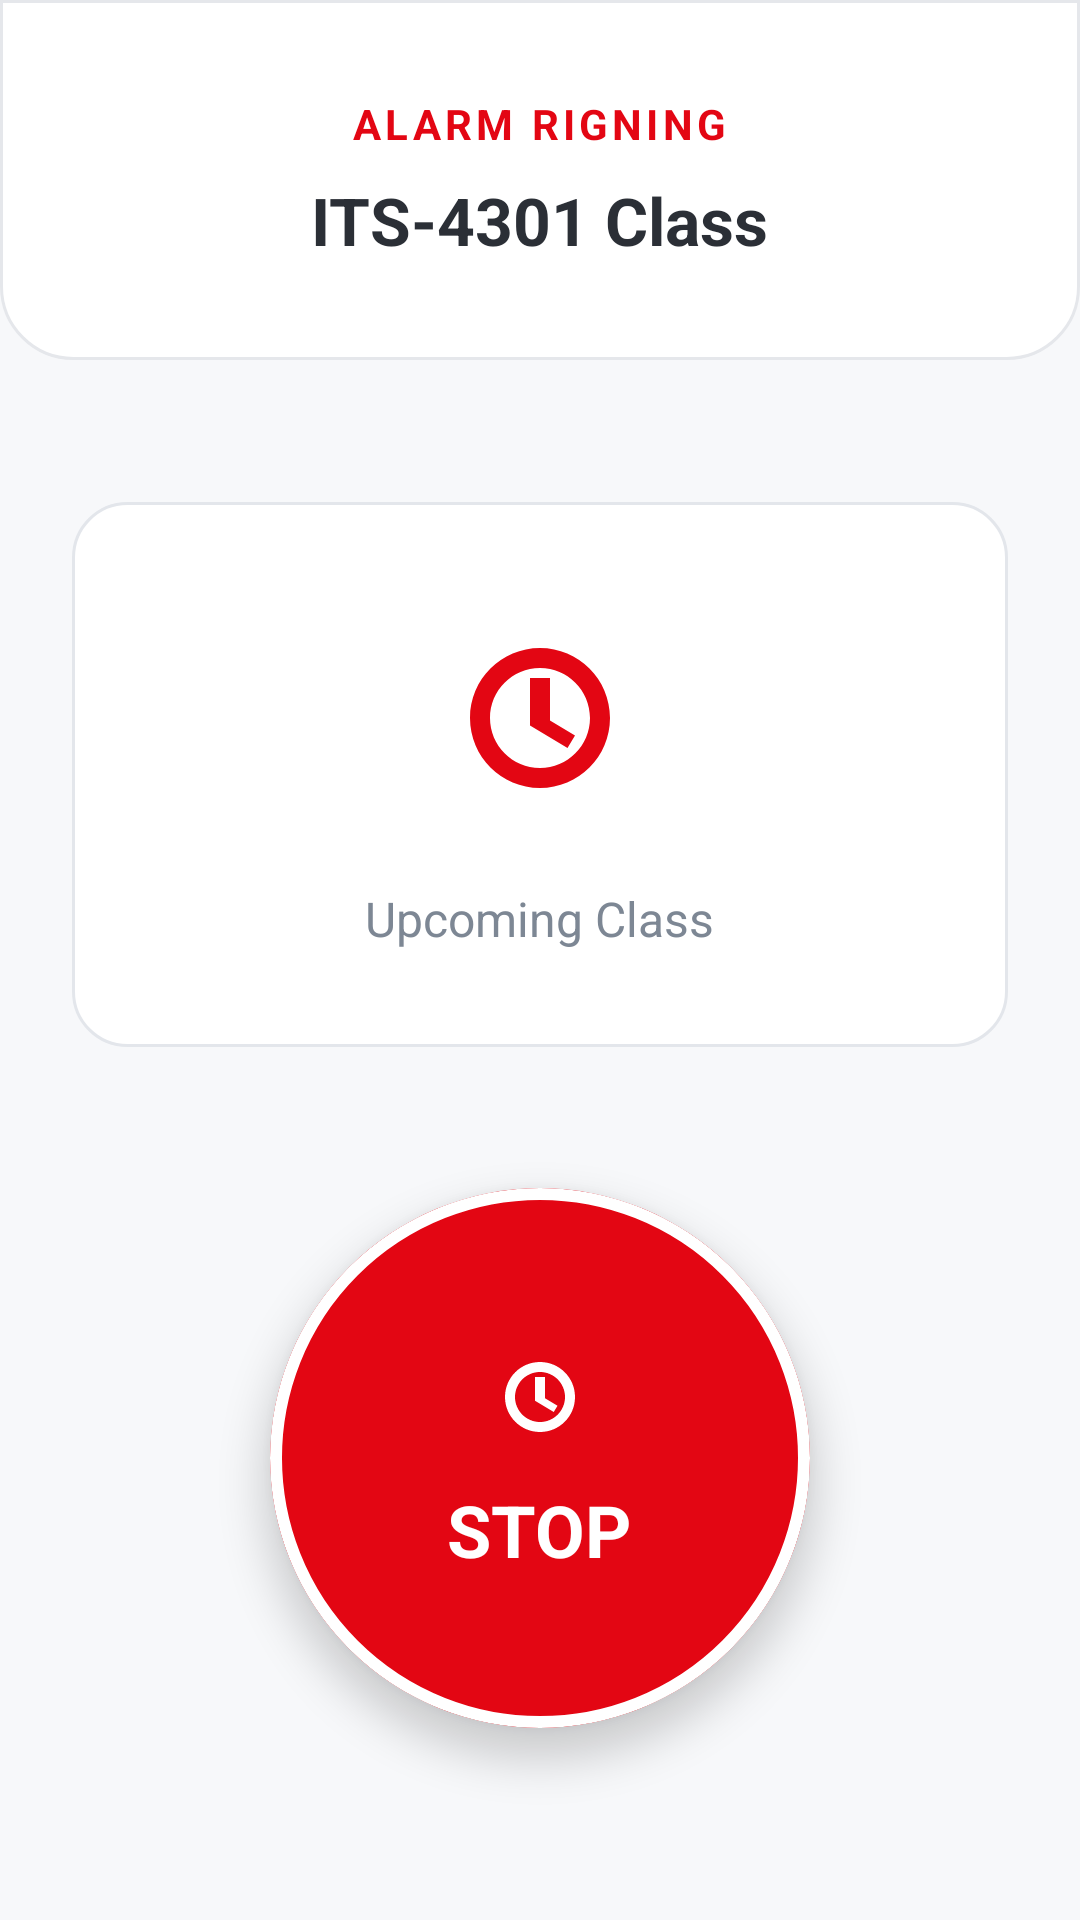

Icon click points for this 1080px x 1920px phone screenshot, format [x,y]:
schedule: [540,718], [540,1397]
